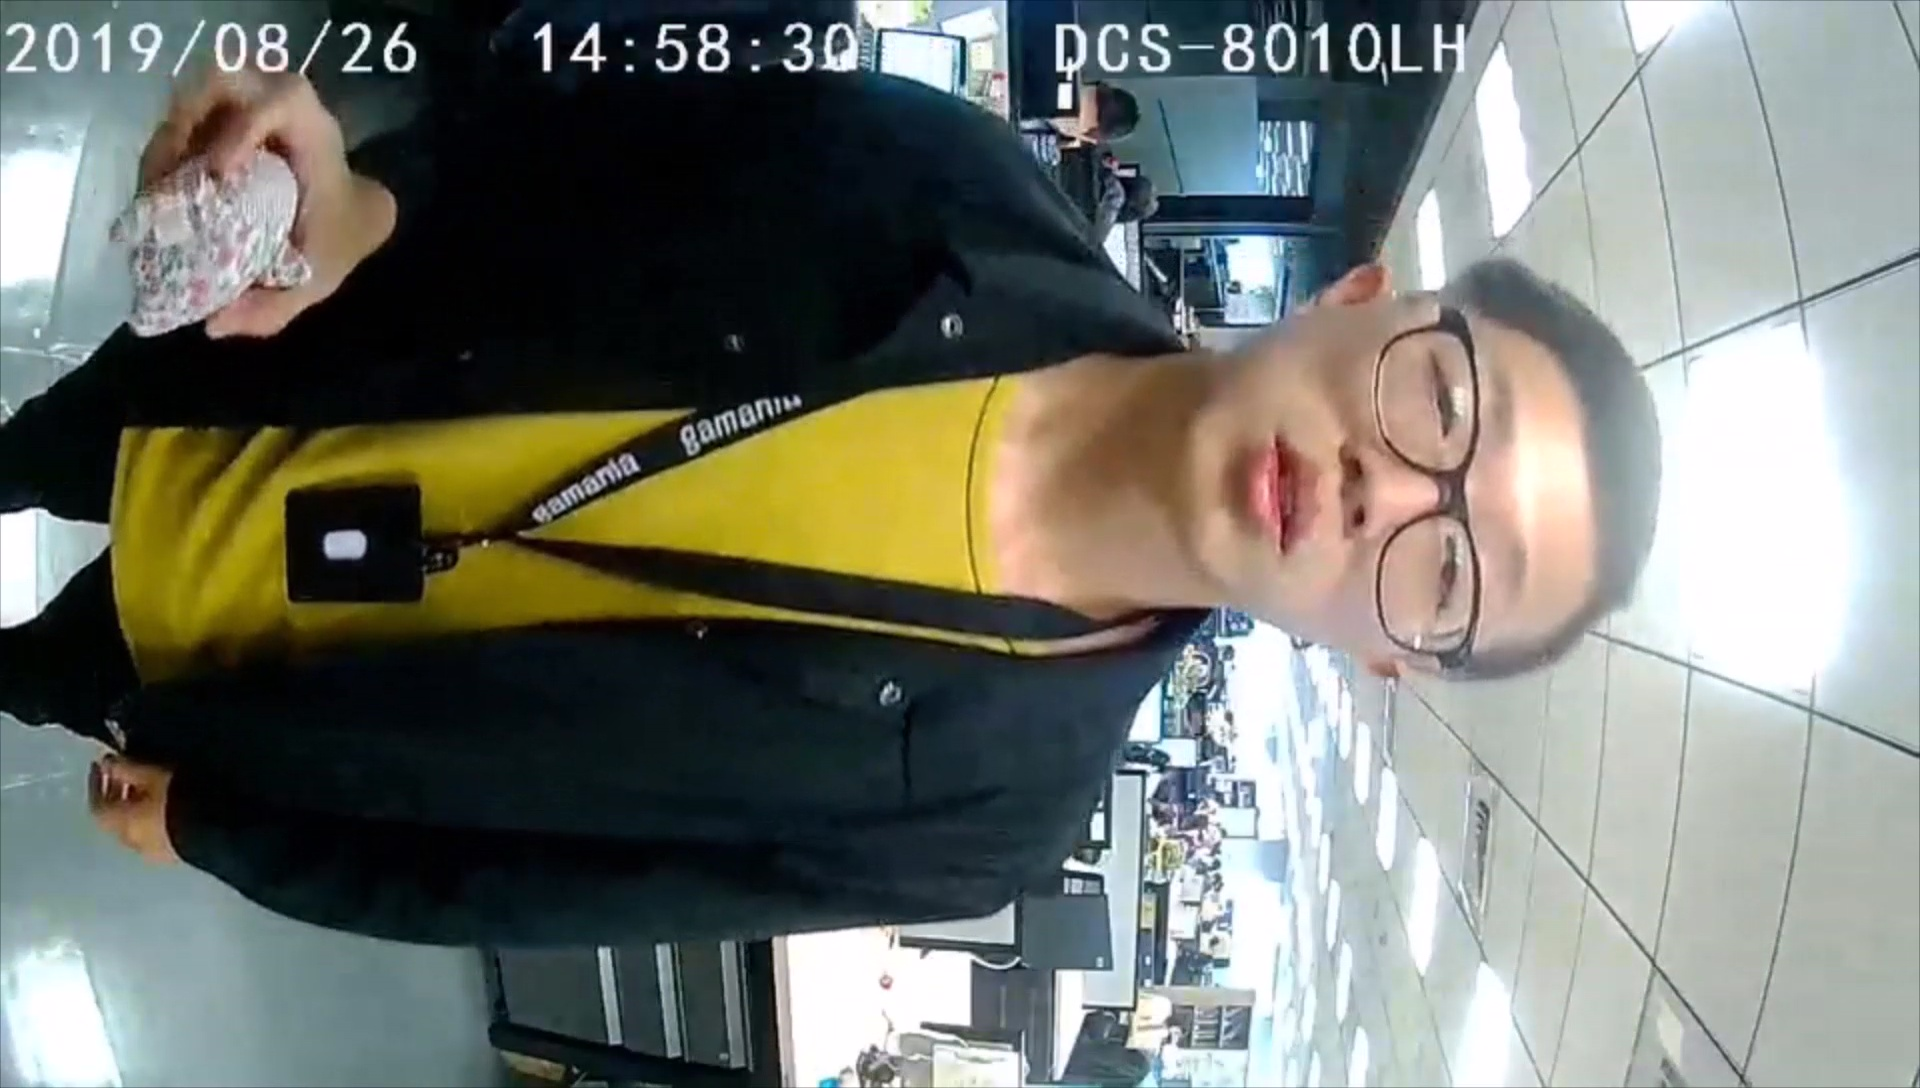pig: (107, 144, 315, 339)
